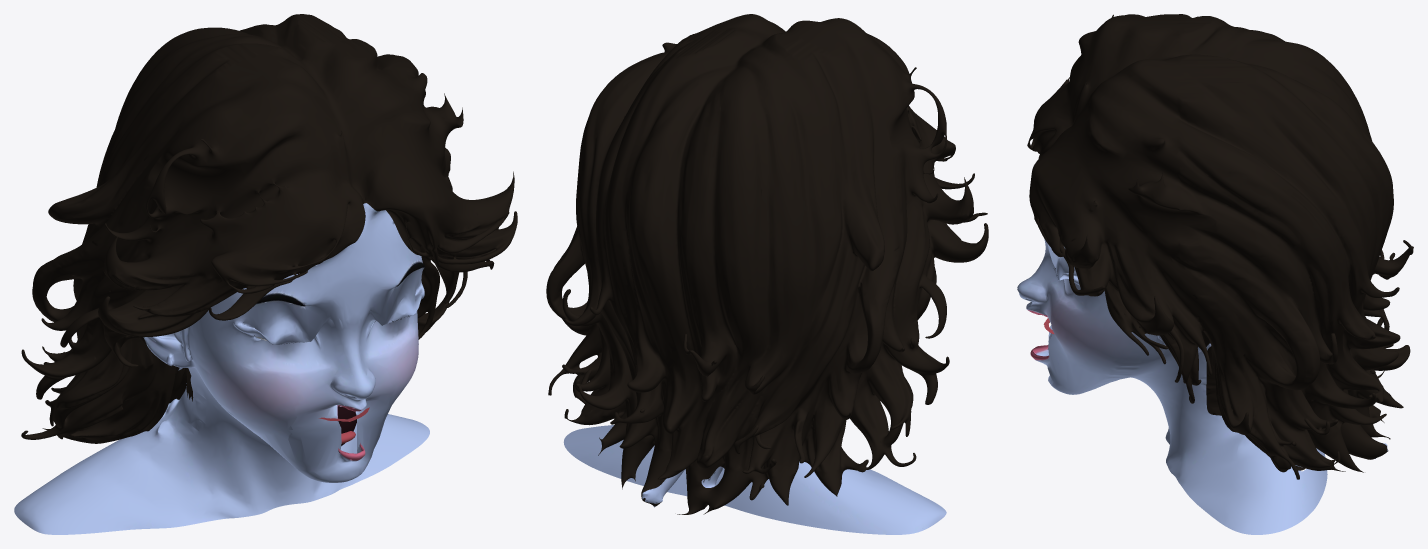
File: krishna-fast-797cd8458c95.glb
The picture shows the model from 3 angles, left to right: view 1: azimuth 30°, elevation 25°; view 2: azimuth 150°, elevation 25°; view 3: azimuth 270°, elevation 25°; orthographic projection. The views are drawn at different scales.
Parts seen in each view (by area): view 1: Dark brown hair, Blue skin; view 2: Dark brown hair, Blue skin; view 3: Dark brown hair, Blue skin.
Part boxes in pixels (x1,y1,x2,y2): Dark brown hair: [21, 14, 517, 443]; Blue skin: [14, 203, 429, 534]; Dark brown hair: [546, 14, 988, 514]; Blue skin: [563, 425, 946, 534]; Dark brown hair: [1027, 14, 1413, 479]; Blue skin: [1017, 239, 1387, 534].
Size of the model in its own units: 0.6225 by 0.6097 by 0.5255.
12 materials, 6 textured.
